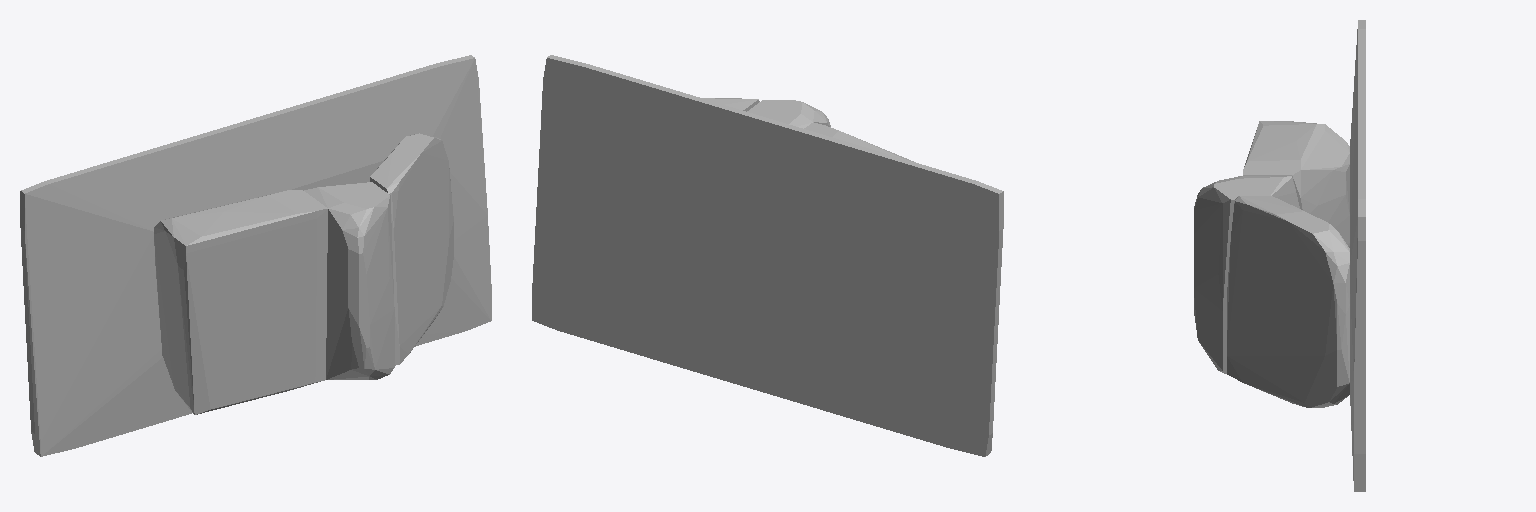
URDF robot description (root):
<robot name="root">
  <link name="link_thingiverse_packaged~part_3492575_packaged_convex_piece_0">
    <inertial>
      <origin rpy="0 0 0" xyz="0 0 0"/>
      <mass value="1.36E-01"/>
      <inertia ixx="1.21E-04" ixy="3.63E-07" ixz="1.08E-05" iyy="3.47E-04" iyz="-3.41E-06" izz="3.03E-04"/>
    </inertial>
    <visual>
      <origin rpy="0 0 0" xyz="0 0 0"/>
      <geometry>
        <mesh filename="thingiverse_packaged~part_3492575_packaged_convex_piece_0.obj" scale="1.0000E+00 1.0000E+00 1.0000E+00"/>
      </geometry>
      <material name="">
        <color rgba="7.50E-01 7.50E-01 7.50E-01 1"/>
      </material>
    </visual>
    <collision>
      <origin rpy="0 0 0" xyz="0 0 0"/>
      <geometry>
        <mesh filename="thingiverse_packaged~part_3492575_packaged_convex_piece_0.obj" scale="1.0000E+00 1.0000E+00 1.0000E+00"/>
      </geometry>
    </collision>
  </link>
  <link name="link_thingiverse_packaged~part_3492575_packaged_convex_piece_1">
    <inertial>
      <origin rpy="0 0 0" xyz="0 0 0"/>
      <mass value="6.14E-02"/>
      <inertia ixx="2.14E-05" ixy="-1.46E-06" ixz="6.18E-06" iyy="1.23E-04" iyz="4.71E-07" izz="1.12E-04"/>
    </inertial>
    <visual>
      <origin rpy="0 0 0" xyz="0 0 0"/>
      <geometry>
        <mesh filename="thingiverse_packaged~part_3492575_packaged_convex_piece_1.obj" scale="1.0000E+00 1.0000E+00 1.0000E+00"/>
      </geometry>
      <material name="">
        <color rgba="7.50E-01 7.50E-01 7.50E-01 1"/>
      </material>
    </visual>
    <collision>
      <origin rpy="0 0 0" xyz="0 0 0"/>
      <geometry>
        <mesh filename="thingiverse_packaged~part_3492575_packaged_convex_piece_1.obj" scale="1.0000E+00 1.0000E+00 1.0000E+00"/>
      </geometry>
    </collision>
  </link>
  <joint name="link_thingiverse_packaged~part_3492575_packaged_convex_piece_1_joint" type="fixed">
    <origin rpy="0 0 0" xyz="0 0 0"/>
    <parent link="link_thingiverse_packaged~part_3492575_packaged_convex_piece_0"/>
    <child link="link_thingiverse_packaged~part_3492575_packaged_convex_piece_1"/>
  </joint>
  <link name="link_thingiverse_packaged~part_3492575_packaged_convex_piece_2">
    <inertial>
      <origin rpy="0 0 0" xyz="0 0 0"/>
      <mass value="1.42E-01"/>
      <inertia ixx="4.72E-05" ixy="3.84E-06" ixz="3.20E-06" iyy="1.11E-04" iyz="-4.13E-07" izz="8.28E-05"/>
    </inertial>
    <visual>
      <origin rpy="0 0 0" xyz="0 0 0"/>
      <geometry>
        <mesh filename="thingiverse_packaged~part_3492575_packaged_convex_piece_2.obj" scale="1.0000E+00 1.0000E+00 1.0000E+00"/>
      </geometry>
      <material name="">
        <color rgba="7.50E-01 7.50E-01 7.50E-01 1"/>
      </material>
    </visual>
    <collision>
      <origin rpy="0 0 0" xyz="0 0 0"/>
      <geometry>
        <mesh filename="thingiverse_packaged~part_3492575_packaged_convex_piece_2.obj" scale="1.0000E+00 1.0000E+00 1.0000E+00"/>
      </geometry>
    </collision>
  </link>
  <joint name="link_thingiverse_packaged~part_3492575_packaged_convex_piece_2_joint" type="fixed">
    <origin rpy="0 0 0" xyz="0 0 0"/>
    <parent link="link_thingiverse_packaged~part_3492575_packaged_convex_piece_1"/>
    <child link="link_thingiverse_packaged~part_3492575_packaged_convex_piece_2"/>
  </joint>
  <link name="link_thingiverse_packaged~part_3492575_packaged_convex_piece_3">
    <inertial>
      <origin rpy="0 0 0" xyz="0 0 0"/>
      <mass value="6.29E-02"/>
      <inertia ixx="3.62E-05" ixy="-1.27E-05" ixz="2.66E-07" iyy="2.80E-05" iyz="-7.53E-07" izz="3.14E-05"/>
    </inertial>
    <visual>
      <origin rpy="0 0 0" xyz="0 0 0"/>
      <geometry>
        <mesh filename="thingiverse_packaged~part_3492575_packaged_convex_piece_3.obj" scale="1.0000E+00 1.0000E+00 1.0000E+00"/>
      </geometry>
      <material name="">
        <color rgba="7.50E-01 7.50E-01 7.50E-01 1"/>
      </material>
    </visual>
    <collision>
      <origin rpy="0 0 0" xyz="0 0 0"/>
      <geometry>
        <mesh filename="thingiverse_packaged~part_3492575_packaged_convex_piece_3.obj" scale="1.0000E+00 1.0000E+00 1.0000E+00"/>
      </geometry>
    </collision>
  </link>
  <joint name="link_thingiverse_packaged~part_3492575_packaged_convex_piece_3_joint" type="fixed">
    <origin rpy="0 0 0" xyz="0 0 0"/>
    <parent link="link_thingiverse_packaged~part_3492575_packaged_convex_piece_2"/>
    <child link="link_thingiverse_packaged~part_3492575_packaged_convex_piece_3"/>
  </joint>
</robot>

--- Render facts (derived) ---
Views: 3 orthographic renders of the robot side by side, from view 1: azimuth 30°, elevation 25°; view 2: azimuth 150°, elevation 25°; view 3: azimuth 270°, elevation 25°.
Model root with 4 links and 3 joints (3 fixed), rooted at link_thingiverse_packaged~part_3492575_packaged_convex_piece_0, posed all joints at 0.
Visible links, largest first — view 1: link_thingiverse_packaged~part_3492575_packaged_convex_piece_0, link_thingiverse_packaged~part_3492575_packaged_convex_piece_2, link_thingiverse_packaged~part_3492575_packaged_convex_piece_3, link_thingiverse_packaged~part_3492575_packaged_convex_piece_1; view 2: link_thingiverse_packaged~part_3492575_packaged_convex_piece_0, link_thingiverse_packaged~part_3492575_packaged_convex_piece_3, link_thingiverse_packaged~part_3492575_packaged_convex_piece_2; view 3: link_thingiverse_packaged~part_3492575_packaged_convex_piece_1, link_thingiverse_packaged~part_3492575_packaged_convex_piece_3, link_thingiverse_packaged~part_3492575_packaged_convex_piece_2, link_thingiverse_packaged~part_3492575_packaged_convex_piece_0.
Link boxes in pixels (x1,y1,x2,y2): link_thingiverse_packaged~part_3492575_packaged_convex_piece_0: (20,55,491,456); link_thingiverse_packaged~part_3492575_packaged_convex_piece_2: (154,190,327,414); link_thingiverse_packaged~part_3492575_packaged_convex_piece_3: (304,182,394,379); link_thingiverse_packaged~part_3492575_packaged_convex_piece_1: (370,133,453,365); link_thingiverse_packaged~part_3492575_packaged_convex_piece_0: (532,55,1003,456); link_thingiverse_packaged~part_3492575_packaged_convex_piece_3: (747,100,830,128); link_thingiverse_packaged~part_3492575_packaged_convex_piece_2: (804,122,913,161); link_thingiverse_packaged~part_3492575_packaged_convex_piece_1: (1227,196,1349,407); link_thingiverse_packaged~part_3492575_packaged_convex_piece_3: (1194,175,1299,373); link_thingiverse_packaged~part_3492575_packaged_convex_piece_2: (1243,121,1349,247); link_thingiverse_packaged~part_3492575_packaged_convex_piece_0: (1350,20,1365,491).
Bounding box of the posed robot: 0.1618 × 0.0515 × 0.0968 m (x, y, z).
4 mesh visuals loaded from 4 distinct referenced files (4 OBJ).
